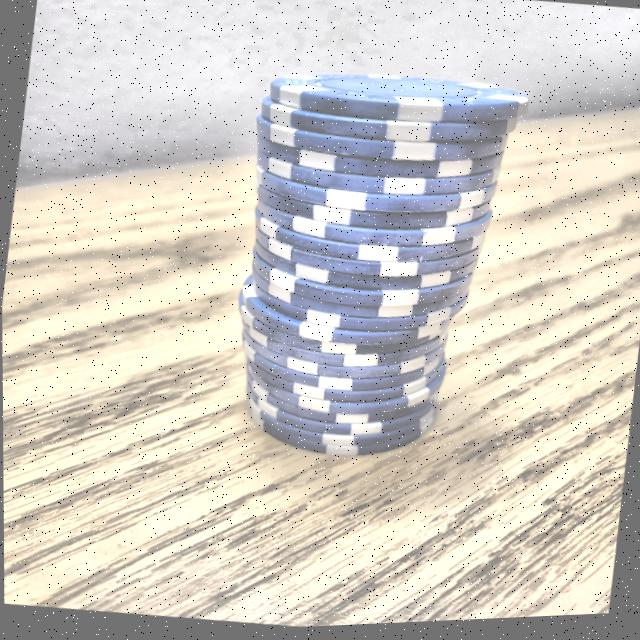Chip: (175, 19, 557, 506)
